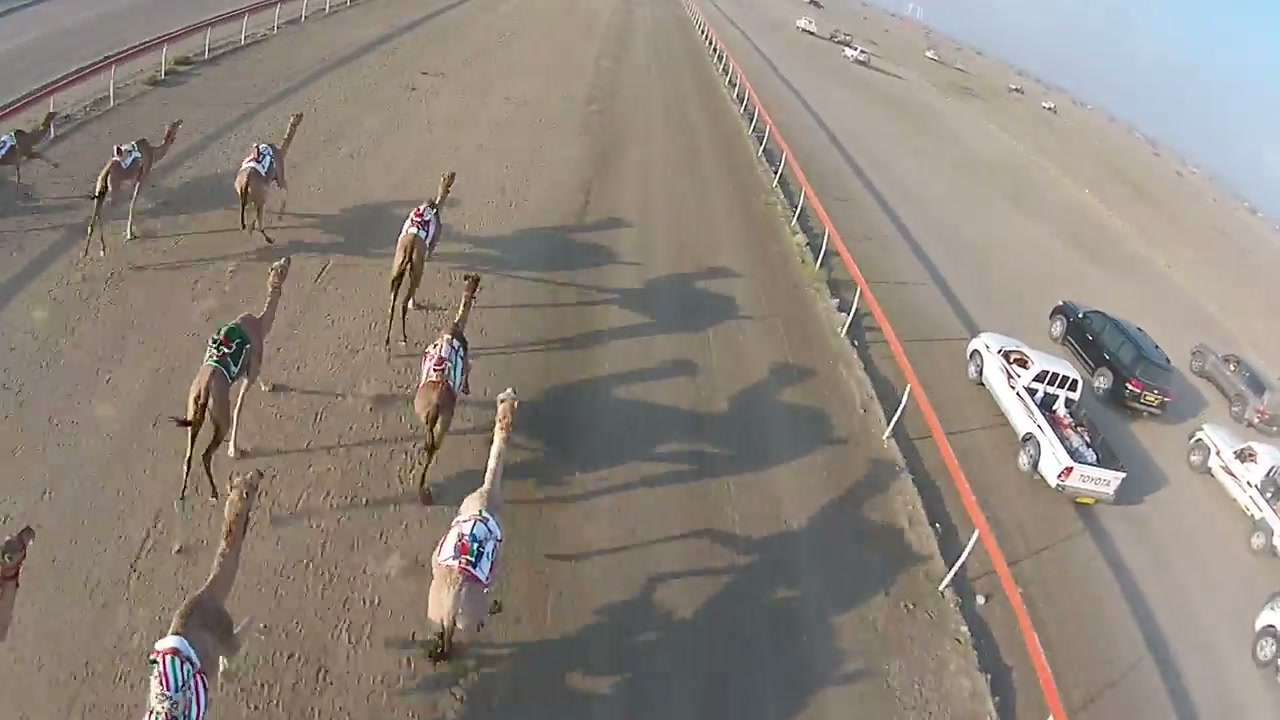animal_foot_print: (253, 329, 429, 719)
